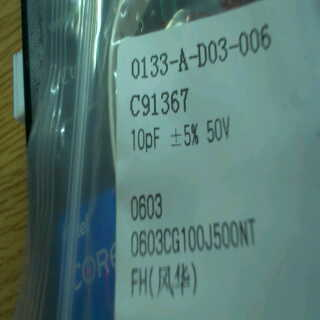10pF: (128, 122, 163, 158)
